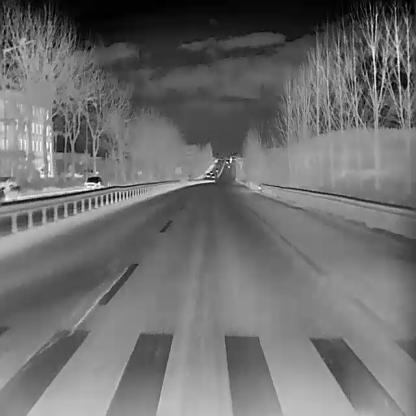car: (83, 175, 103, 189), (205, 172, 210, 176)
